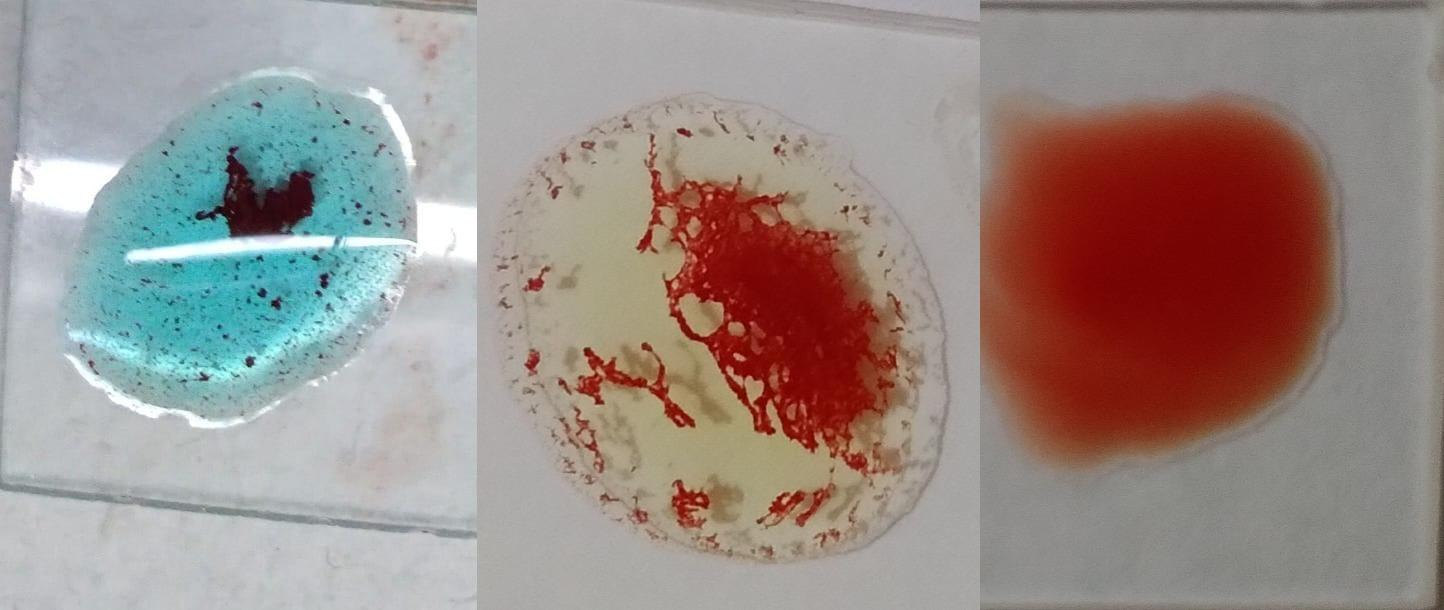A: (79, 63, 417, 426)
B: (501, 93, 943, 557)
